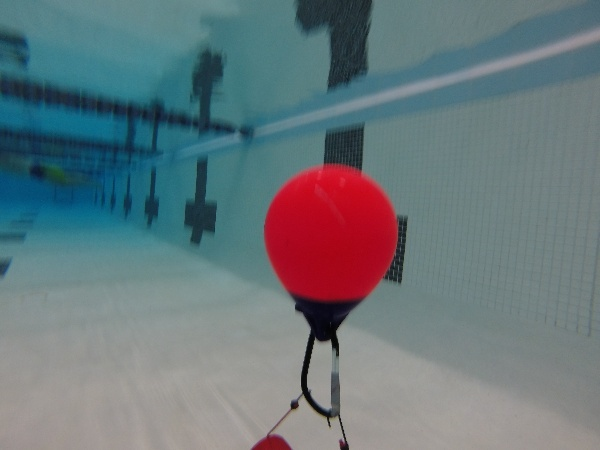buoy_red: (260, 160, 400, 340)
